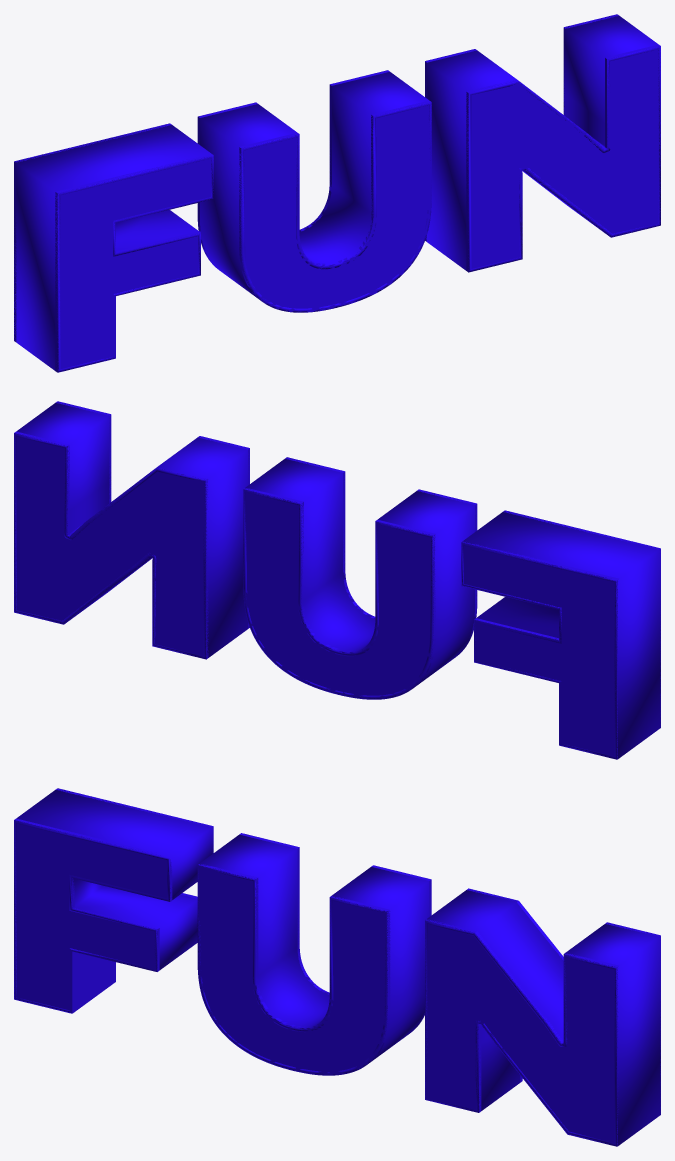
Rendered from fun2.glb.
3 renders of one model, top to bottom at view 1: azimuth 30°, elevation 25°; view 2: azimuth 150°, elevation 25°; view 3: azimuth 330°, elevation 25°, orthographic.
Visible parts, largest first — view 1: Text.001; view 2: Text.001; view 3: Text.001.
Part boxes in pixels (x1,y1,x2,y2): Text.001: [14, 14, 660, 372]; Text.001: [14, 401, 660, 759]; Text.001: [14, 788, 660, 1146].
Size of the model in its own units: 1.6 by 0.4618 by 0.2.
